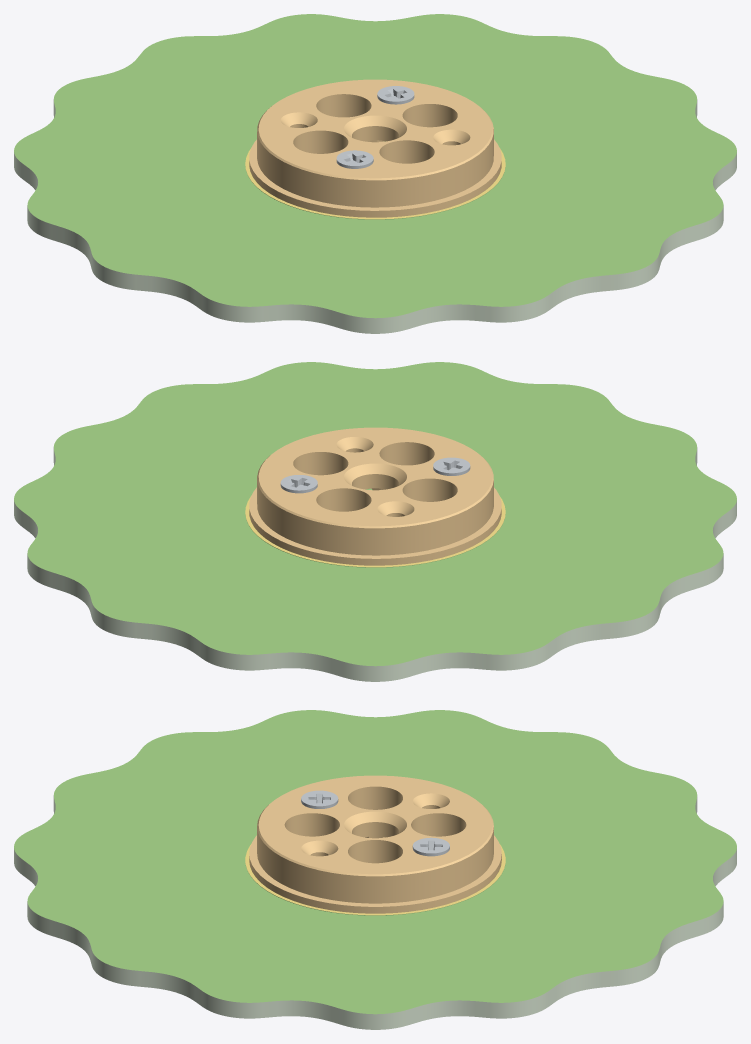
The model's file is cycloidalDisc.gltf.
The picture shows the model from 3 angles, top to bottom: view 1: azimuth 30°, elevation 25°; view 2: azimuth 150°, elevation 25°; view 3: azimuth 270°, elevation 25°; orthographic projection.
Parts seen in each view (by area): view 1: cycloidalDisc, discHub, PH Countersunk flat head screw M2.5x0.45 x 8 (×2); view 2: cycloidalDisc, discHub, PH Countersunk flat head screw M2.5x0.45 x 8 (×2); view 3: cycloidalDisc, discHub, PH Countersunk flat head screw M2.5x0.45 x 8 (×2).
Part boxes in pixels (left/top/right/bottom): cycloidalDisc: left=14, top=14, right=736, bottom=333; discHub: left=249, top=79, right=501, bottom=217; PH Countersunk flat head screw M2.5x0.45 x 8 (×2): left=336, top=86, right=414, bottom=168; cycloidalDisc: left=14, top=362, right=736, bottom=681; discHub: left=249, top=427, right=501, bottom=565; PH Countersunk flat head screw M2.5x0.45 x 8 (×2): left=280, top=457, right=470, bottom=493; cycloidalDisc: left=14, top=710, right=736, bottom=1029; discHub: left=249, top=775, right=501, bottom=913; PH Countersunk flat head screw M2.5x0.45 x 8 (×2): left=301, top=790, right=449, bottom=856.
Bounding box in the file's own units: 0.0911 × 0.013 × 0.0916.
